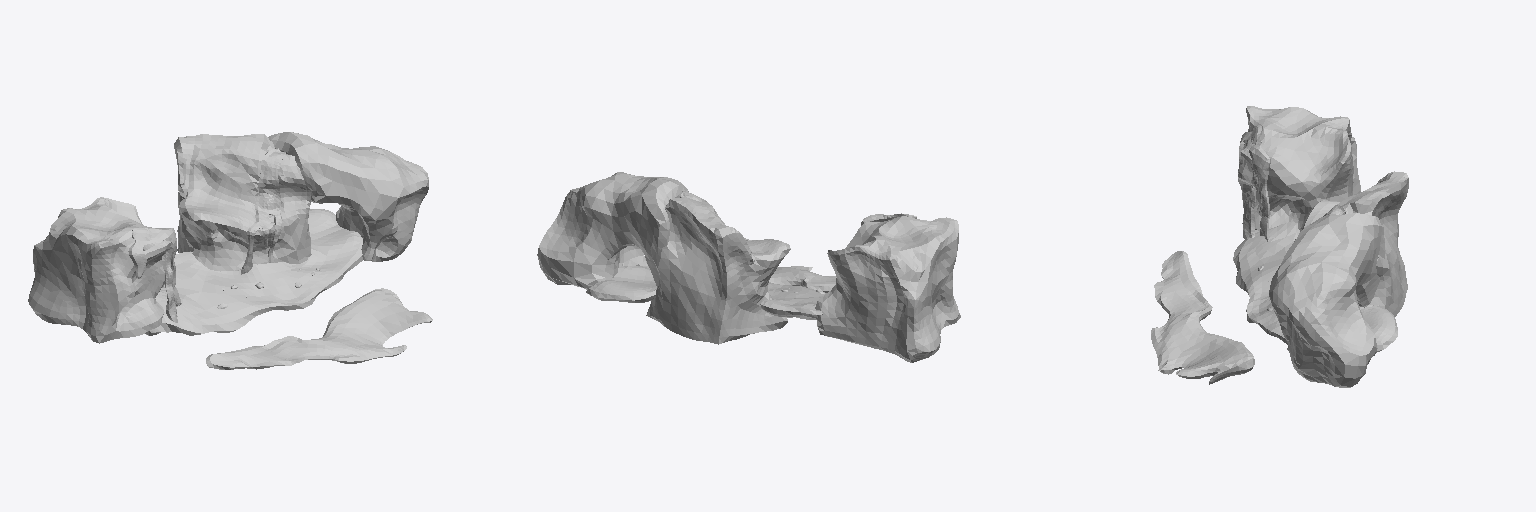
File: LavaLeft2.obj
The picture shows the model from 3 angles: view 1: azimuth 30°, elevation 25°; view 2: azimuth 150°, elevation 25°; view 3: azimuth 270°, elevation 25°; orthographic projection.
Visible parts, largest first — view 1: левый_камень, камень_центр, Лава_фон, Арка, лава_передний_план, лава_правая, лава_левая; view 2: левый_камень, камень_центр, Арка, Лава_фон, лава_передний_план; view 3: Арка, левый_камень, лава_передний_план, Лава_фон, камень_центр, лава_левая.
Part boxes in pixels (bbox=[...]): левый_камень: bbox=[28, 197, 171, 343]; камень_центр: bbox=[174, 134, 311, 271]; Лава_фон: bbox=[145, 209, 362, 335]; Арка: bbox=[268, 132, 428, 261]; лава_передний_план: bbox=[206, 288, 432, 369]; лава_правая: bbox=[241, 148, 285, 274]; лава_левая: bbox=[128, 228, 181, 322]; левый_камень: bbox=[815, 216, 960, 362]; камень_центр: bbox=[646, 191, 790, 344]; Арка: bbox=[537, 172, 688, 289]; Лава_фон: bbox=[586, 266, 825, 319]; лава_передний_план: bbox=[769, 266, 836, 292]; Арка: bbox=[1269, 213, 1384, 387]; левый_камень: bbox=[1238, 106, 1360, 231]; лава_передний_план: bbox=[1151, 251, 1254, 384]; Лава_фон: bbox=[1233, 222, 1397, 352]; камень_центр: bbox=[1302, 171, 1408, 316]; лава_левая: bbox=[1239, 125, 1269, 239].
Bounding box in the file's own units: 12.81 × 4.93 × 7.35.